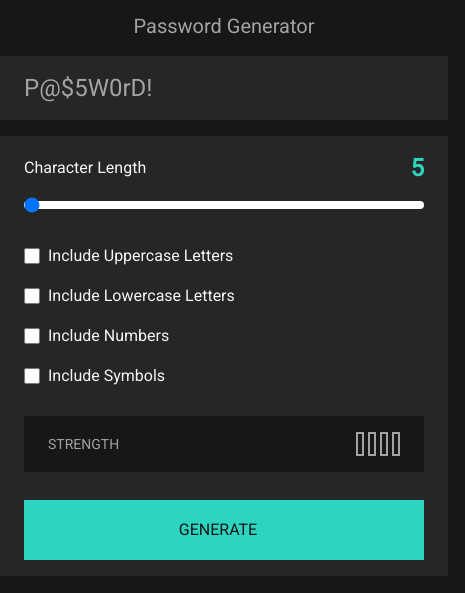
Scenario: Password Generator › generates strong password
Click the checkbox named "include-uppercase-letters" at (32, 256), box 24,248 -> 40,264
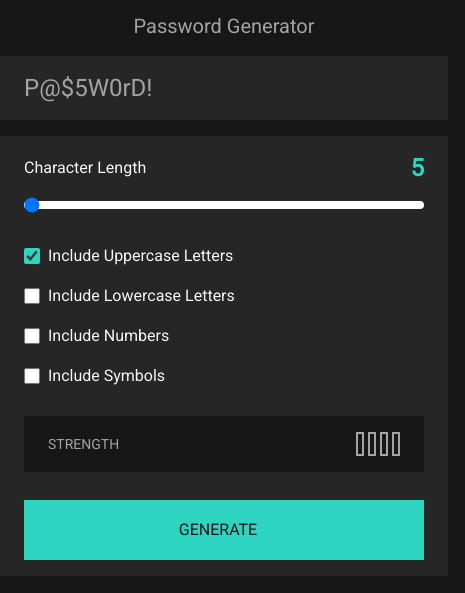
Click the checkbox named "include-lowercase-letters" at (32, 296), box 24,288 -> 40,304
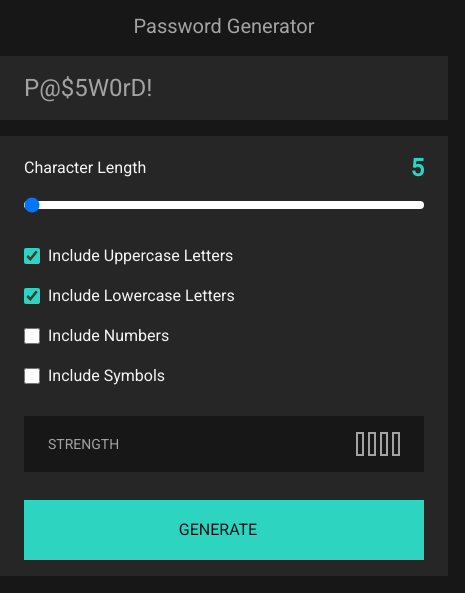
Click the checkbox named "include-numbers" at (32, 336), box 24,328 -> 40,344
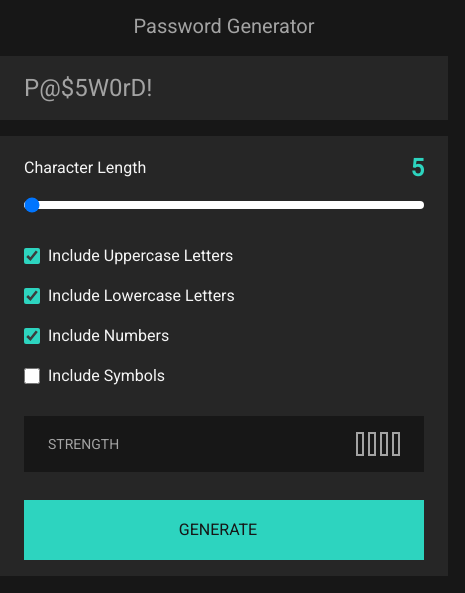
Click the checkbox named "include-symbols" at (32, 376), box 24,368 -> 40,384
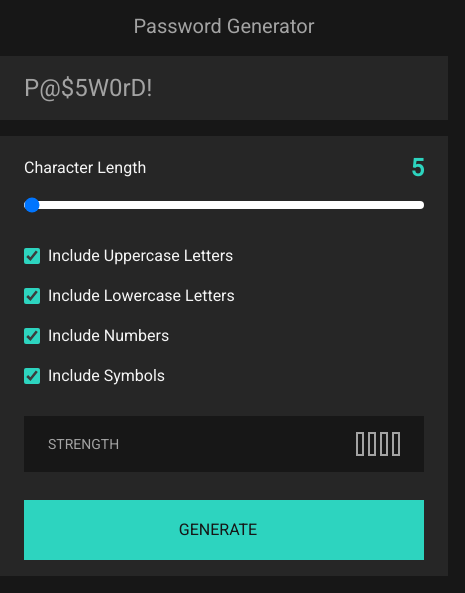
Click the button with id "generate-password" at (224, 530), box 24,500 -> 424,560
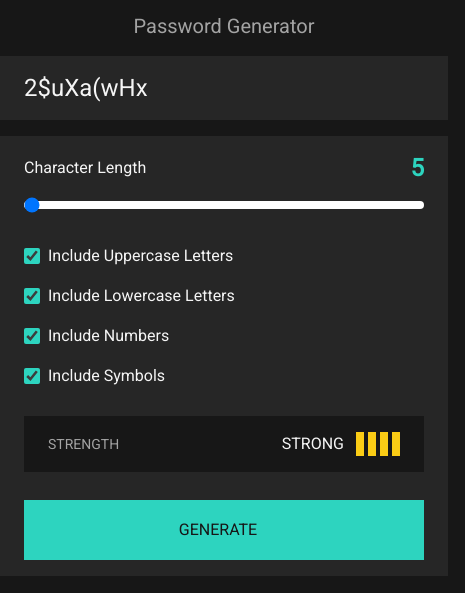
Expected: the text "STRONG" is shown, 282,432 -> 344,456
Expected: the text with test id "password-strength" reads "STRONG", 282,434 -> 344,453
Expected: the number of elements with test id "password-strength-bar" is 4, 356,432 -> 364,456; 368,432 -> 376,456; 380,432 -> 388,456; 392,432 -> 400,456
